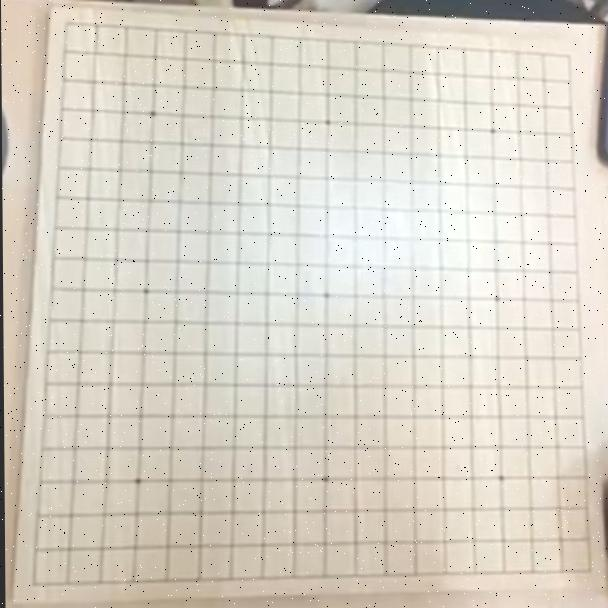corners: (561, 546, 603, 590), (17, 560, 59, 600), (547, 36, 585, 78), (48, 14, 94, 45)
